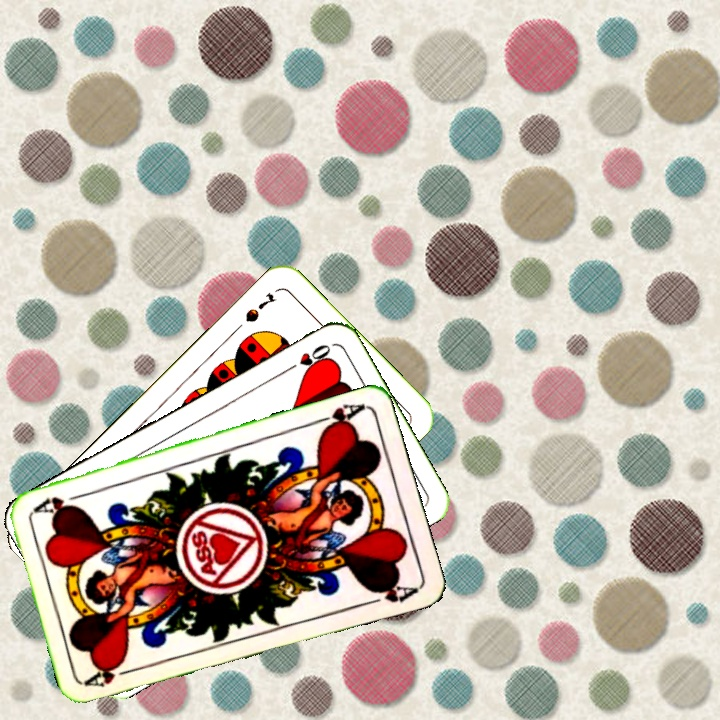HA: (308, 399, 367, 435), (82, 660, 141, 690)
HO: (280, 340, 334, 376)
S7: (241, 288, 279, 325)
